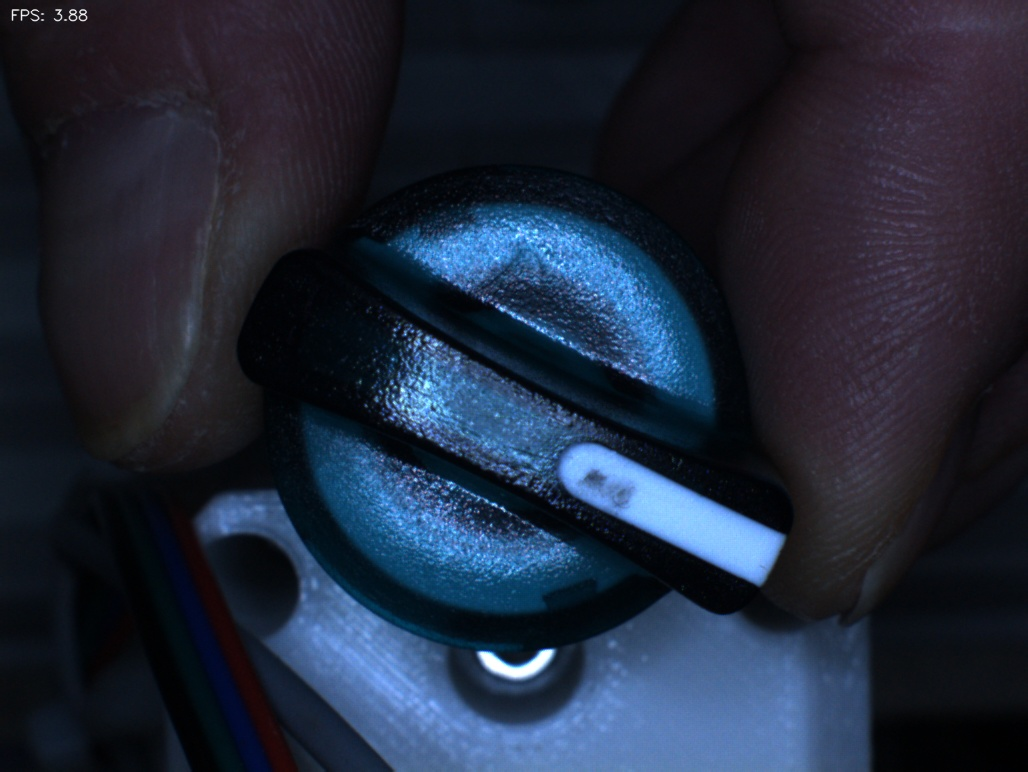PointNoir: (564, 457, 651, 536)
